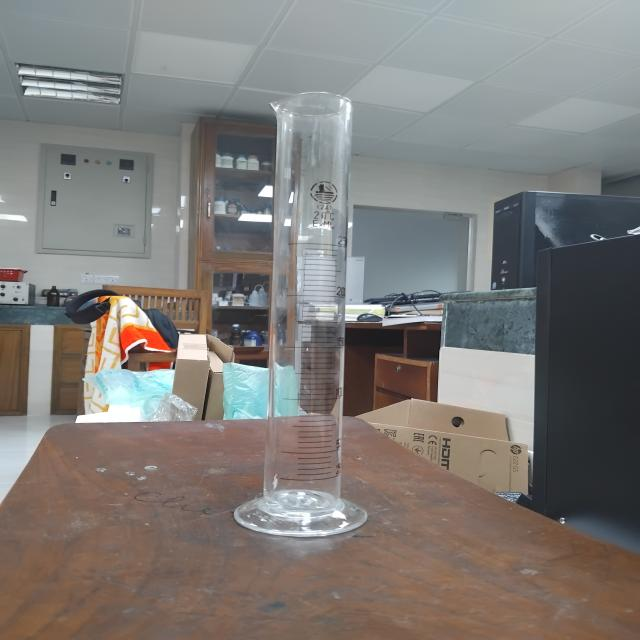Measuring_Cylinder: (225, 64, 407, 564)
